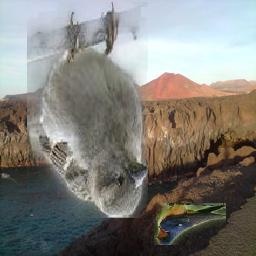Sparrow: (28, 2, 149, 218)
Swallow: (154, 203, 226, 245)
